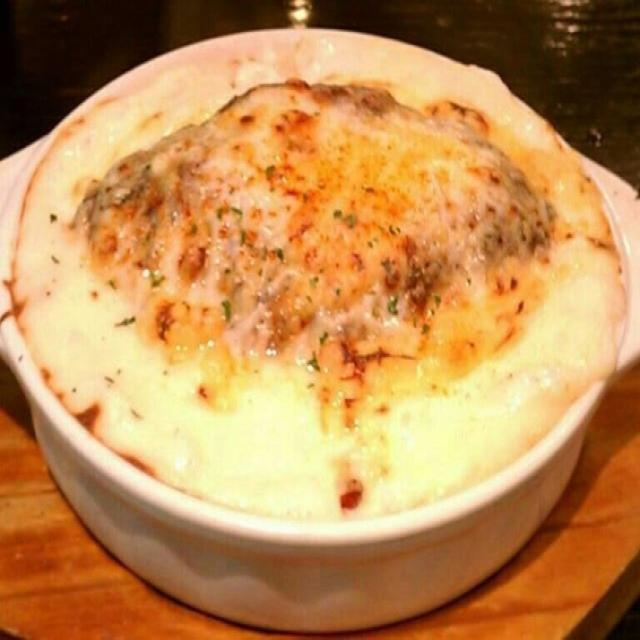米饭主食: (17, 55, 630, 568)
